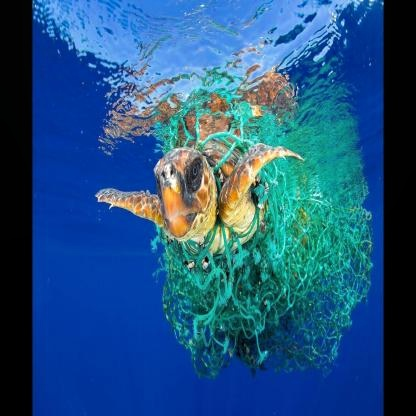net: (160, 94, 372, 382)
